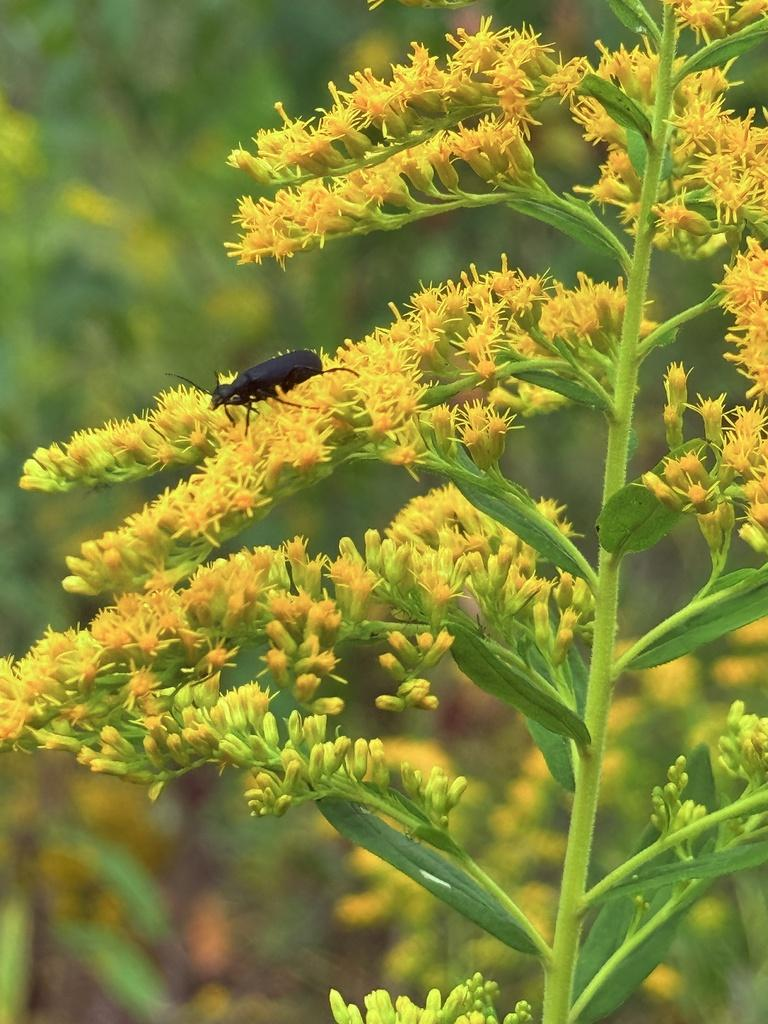blister_beetle: (140, 318, 383, 469)
